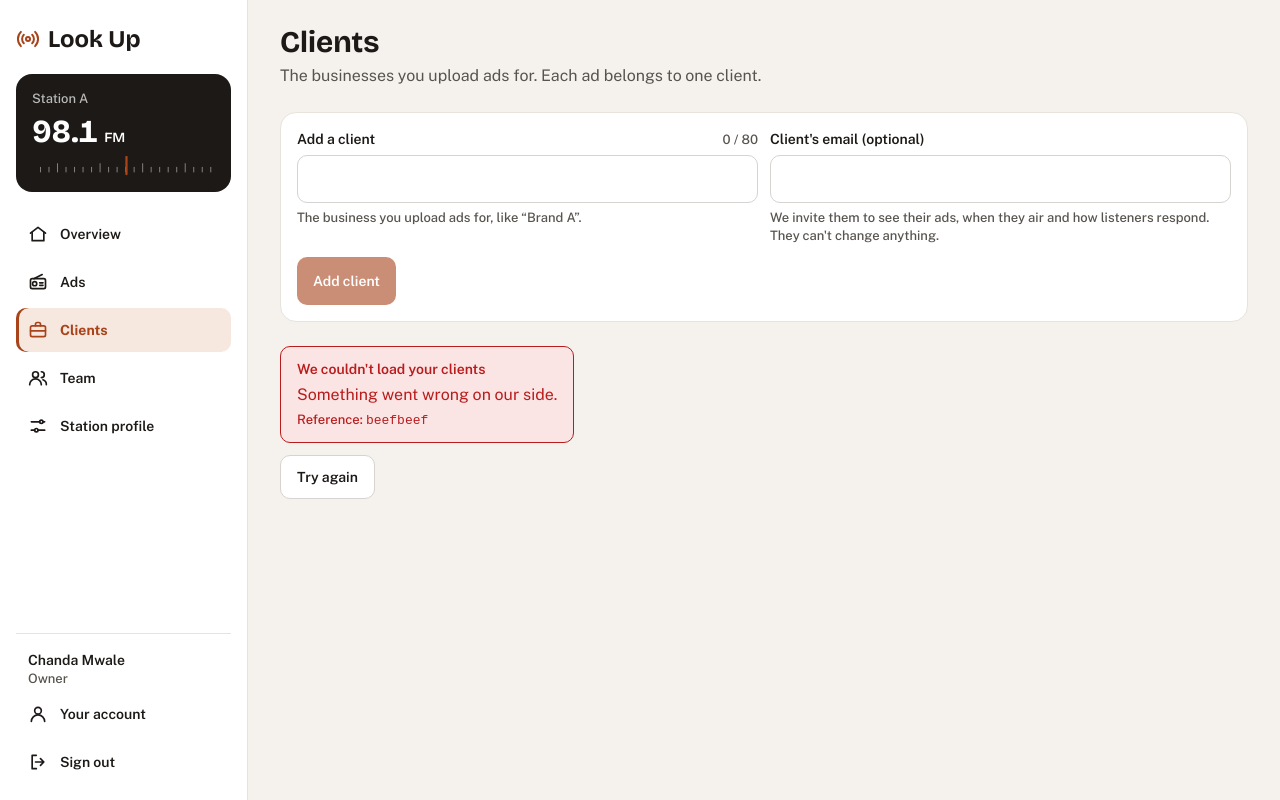
Test: Clients › explains a failure in plain words with its reference, and offers to try again
Check: the message shows "We couldn't load your clients", box [297,361,485,377]
Check: the message shows "Reference: beefbeef", box [280,346,574,443]
Click the button "Try again". click: (328, 477)
box: [280,455,375,499]
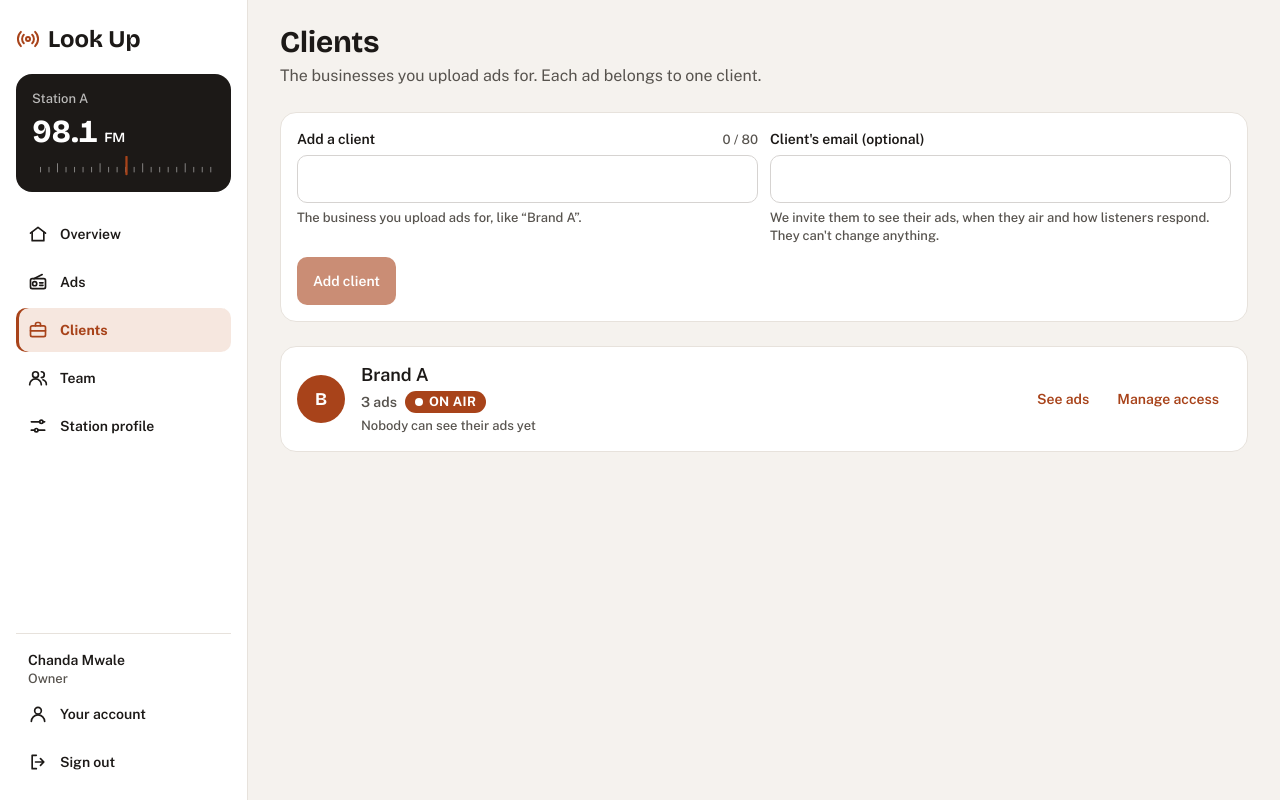
Check: the text "Brand A" is shown, box [361,364,429,385]
